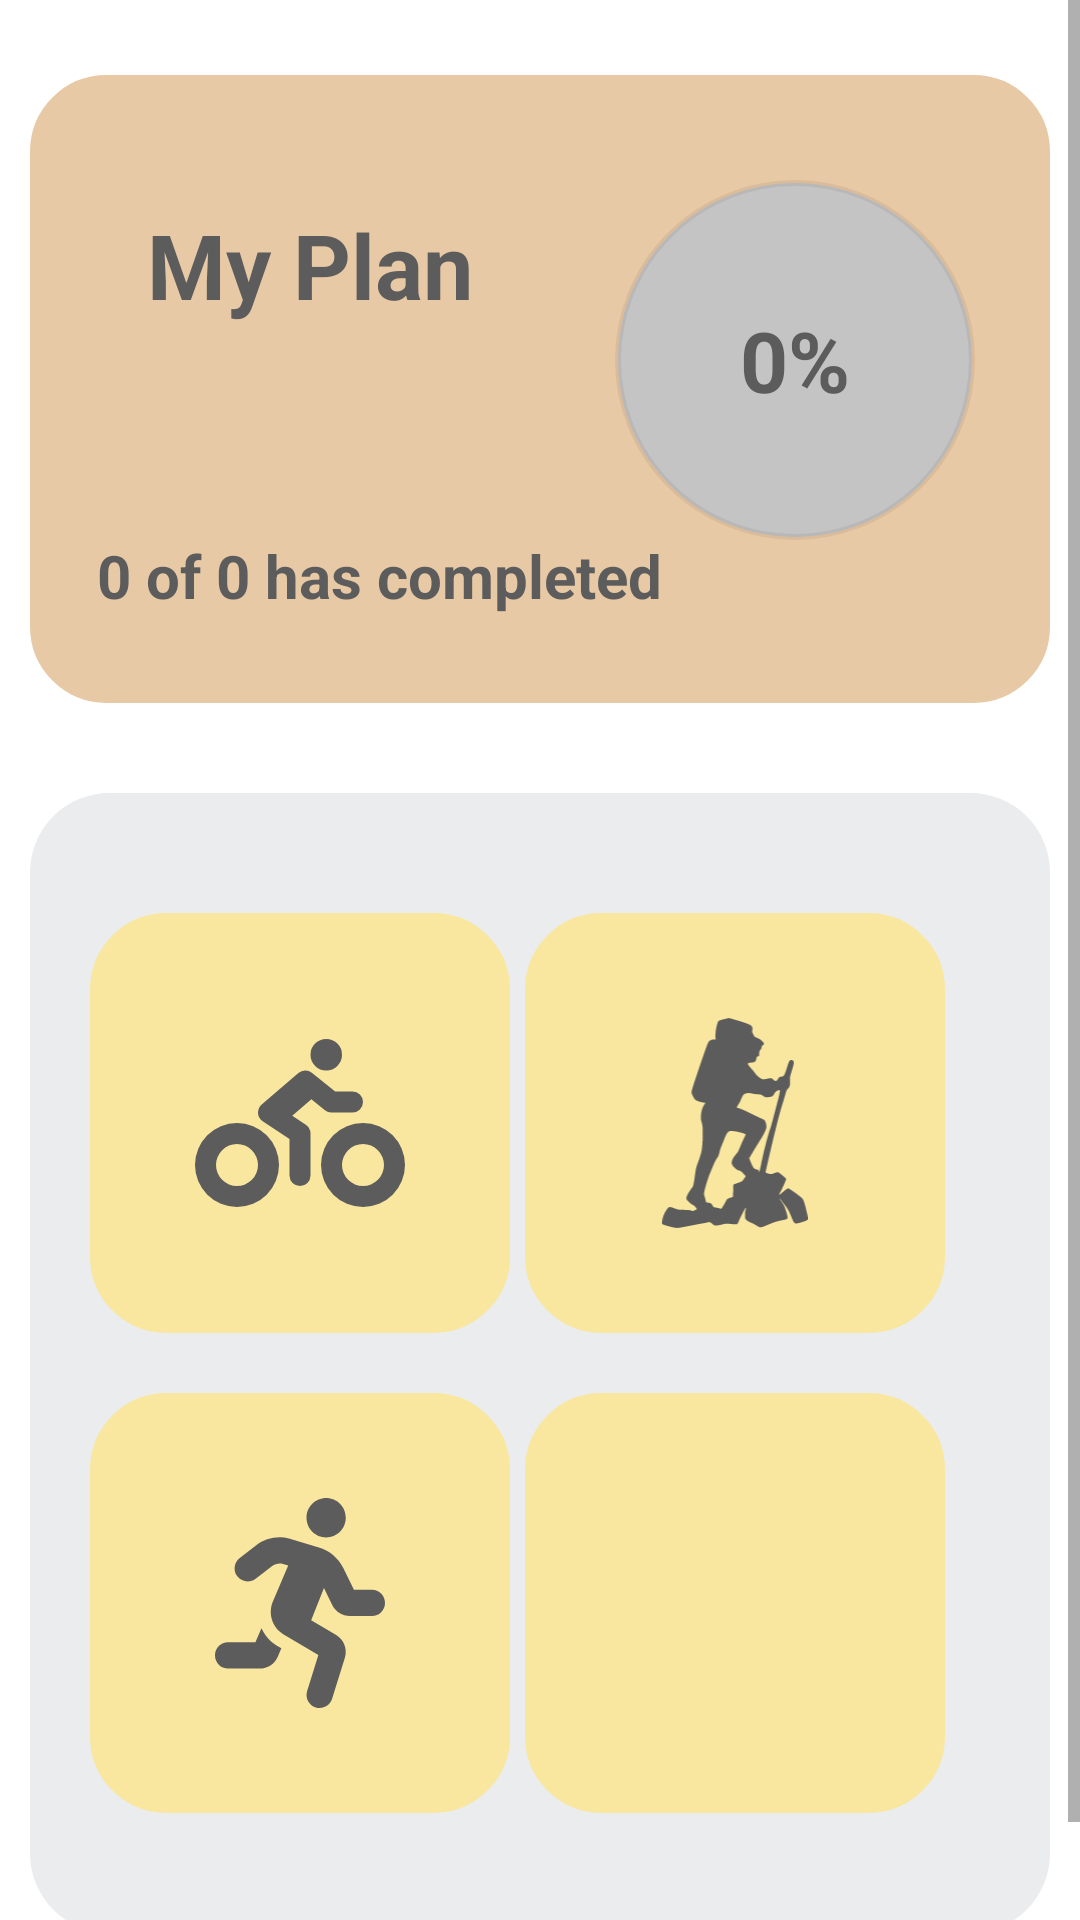

Icon bounding boxes for this 1080x1920 phone screenshot, format [x1=x1, y1=y1, x2=x2, y2=y2]:
biking: [x1=195, y1=1039, x2=405, y2=1207]
hiking: [x1=662, y1=1018, x2=808, y2=1228]
running: [x1=215, y1=1498, x2=385, y2=1708]
